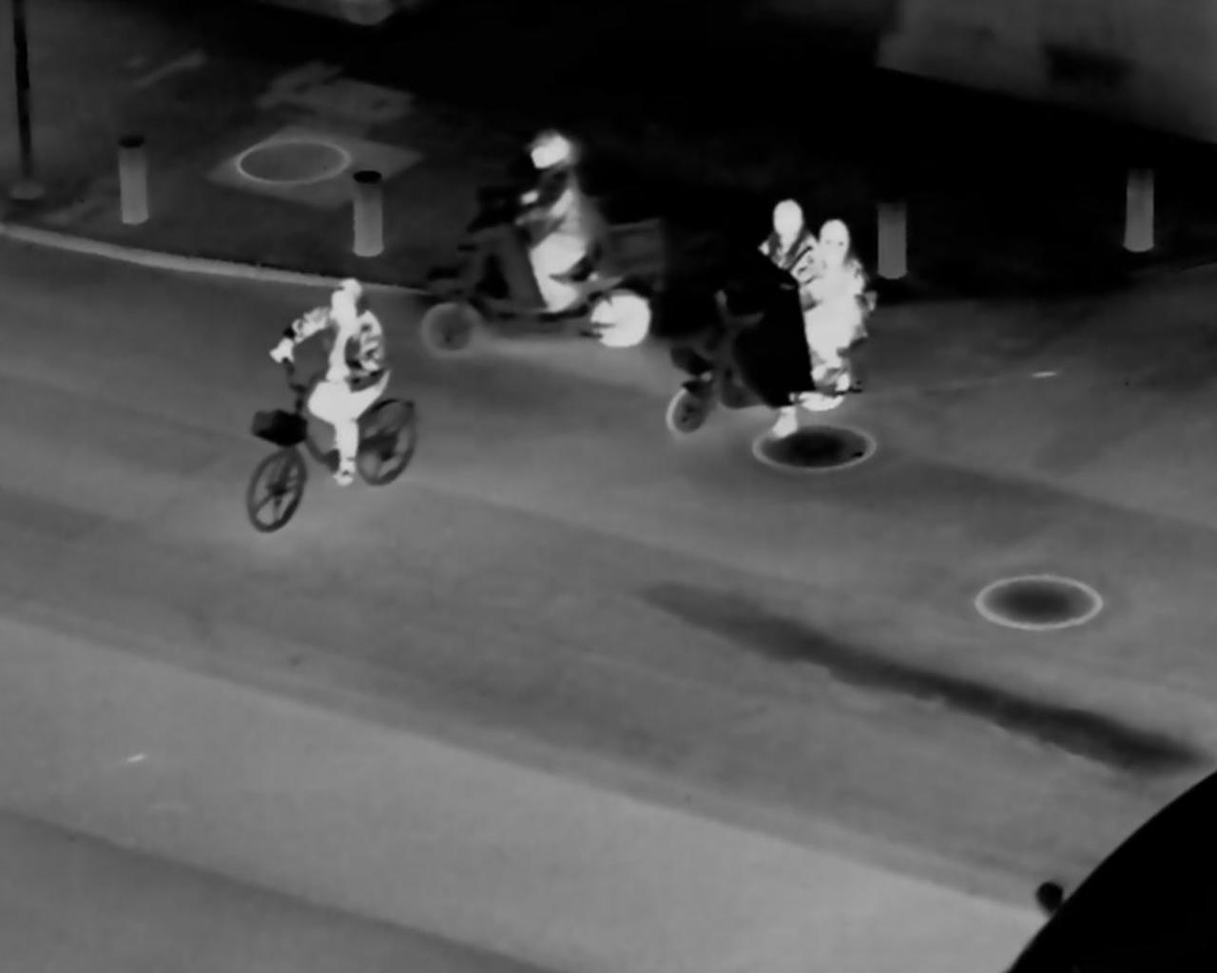person: (270, 271, 396, 467), (508, 127, 607, 325), (750, 200, 817, 442), (802, 205, 874, 419)
